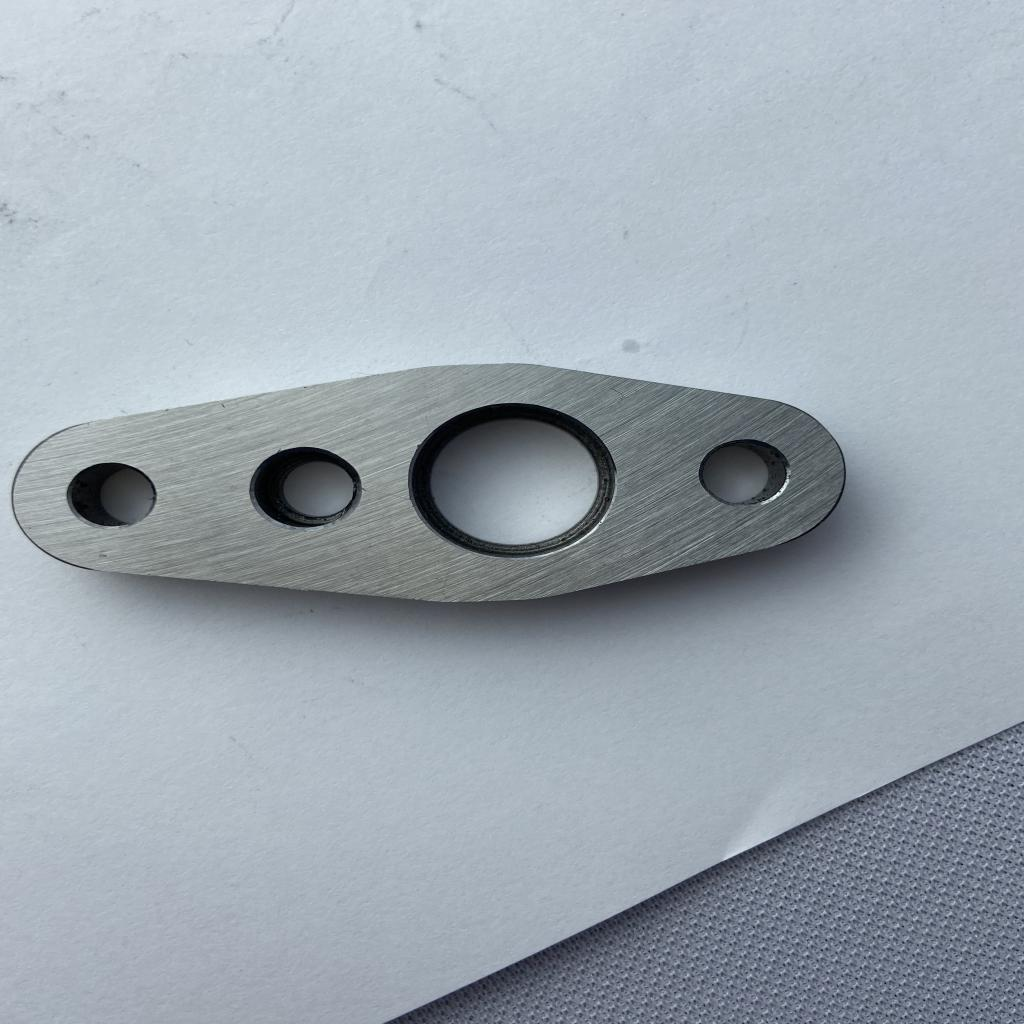lines: (362, 486, 409, 502), (609, 384, 626, 400)
